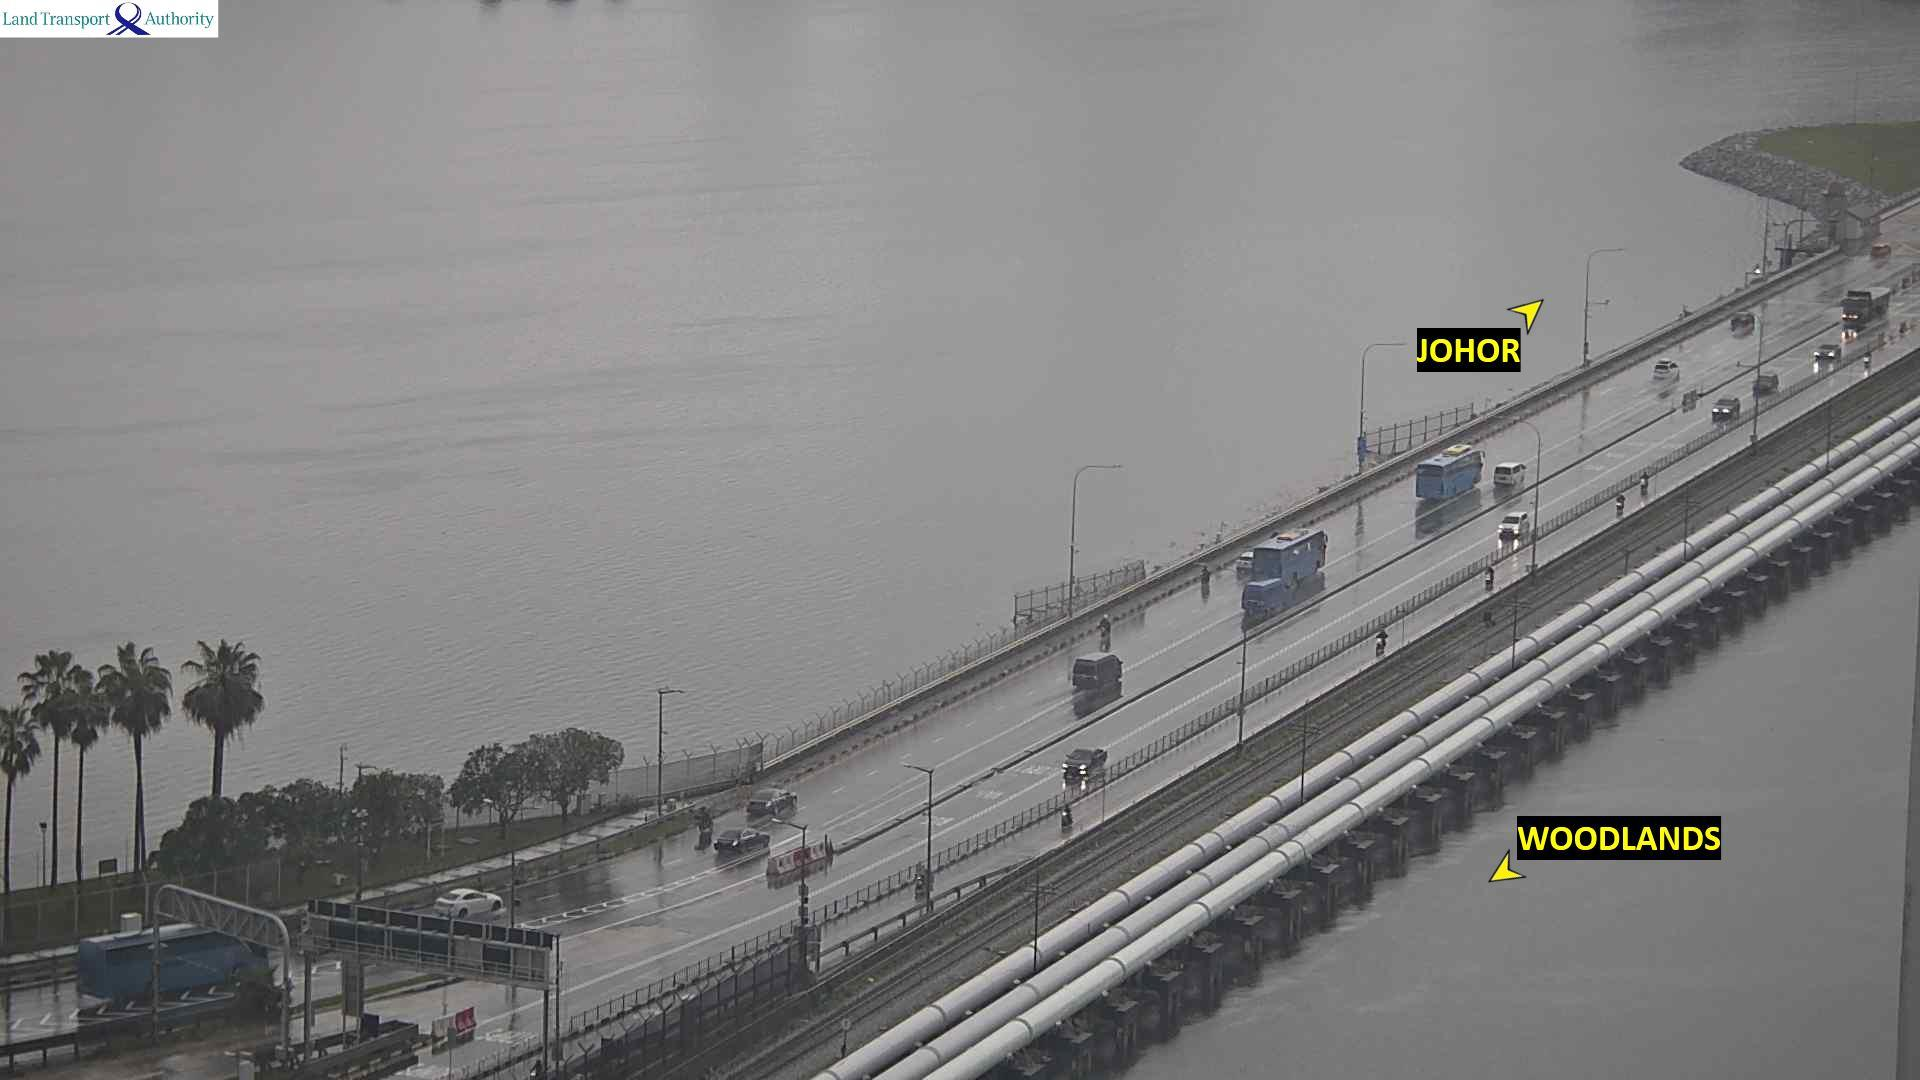vehicle-causeway-johor: (75, 923, 270, 1001), (1255, 529, 1324, 583), (1418, 444, 1482, 498), (434, 887, 504, 916), (1071, 653, 1122, 690), (715, 827, 773, 855), (1242, 580, 1288, 615), (746, 790, 798, 815), (1494, 462, 1526, 488), (1654, 359, 1680, 382), (1731, 311, 1754, 338), (1098, 615, 1113, 649), (1236, 551, 1255, 572), (1871, 244, 1891, 258), (1200, 567, 1209, 582)
vehicle-causeway-singapore: (1844, 286, 1888, 320), (1063, 746, 1108, 778), (1499, 512, 1531, 539), (1712, 396, 1741, 421), (1753, 373, 1779, 393), (1813, 344, 1841, 360), (1375, 626, 1389, 655), (1060, 803, 1073, 829), (1484, 566, 1494, 588), (1865, 344, 1873, 369), (1640, 472, 1648, 496), (1617, 492, 1625, 512)
